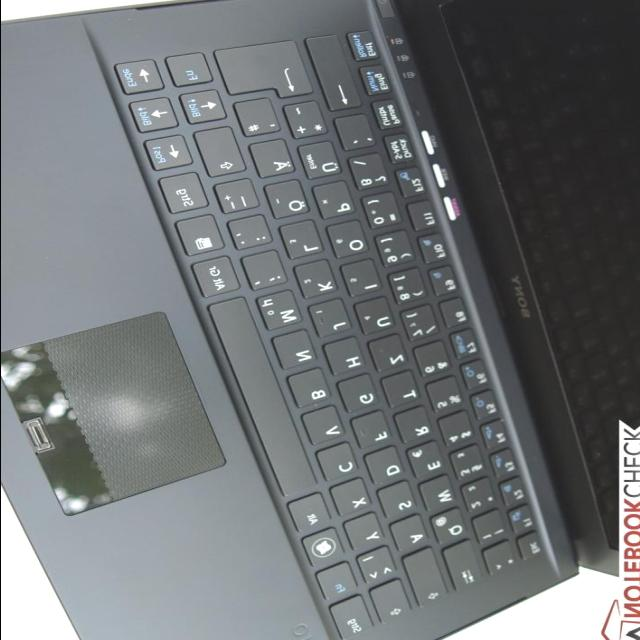0: (365, 194, 405, 232)
1: (475, 511, 511, 549)
2: (464, 479, 498, 516)
3: (453, 446, 487, 484)
4: (441, 413, 477, 449)
5: (429, 379, 466, 417)
6: (416, 343, 455, 381)
7: (403, 307, 443, 345)
8: (391, 270, 429, 308)
9: (378, 232, 418, 272)
a: (394, 518, 431, 556)
accent: (336, 116, 380, 152)
ae: (252, 141, 297, 181)
alt-left: (291, 495, 335, 537)
altgr-right: (195, 259, 245, 301)
b: (290, 369, 334, 411)
c: (320, 444, 360, 486)
caret: (485, 544, 517, 578)
comma: (243, 251, 291, 293)
d: (366, 448, 406, 488)
del: (309, 37, 365, 113)
e: (410, 443, 449, 483)
enter: (217, 42, 317, 100)
f: (354, 412, 393, 452)
g: (339, 376, 379, 416)
h: (325, 339, 367, 379)
hash: (235, 100, 284, 138)
i: (344, 260, 386, 300)
j: (310, 300, 354, 340)
k: (296, 262, 340, 302)
keyboard: (95, 0, 554, 640)
l: (281, 222, 326, 262)
less: (359, 548, 399, 588)
m: (259, 292, 306, 334)
minus: (216, 180, 263, 216)
n: (274, 332, 318, 372)
o: (329, 222, 371, 262)
oe: (266, 182, 311, 222)
p: (315, 182, 359, 222)
plus: (285, 103, 331, 141)
point: (231, 217, 276, 253)
q: (434, 510, 470, 548)
r: (397, 407, 435, 447)
s: (380, 483, 418, 523)
shift-left: (372, 581, 412, 628)
shift-lock: (404, 549, 449, 610)
shift-right: (196, 127, 250, 179)
space: (208, 298, 321, 502)
ss: (350, 155, 392, 193)
strg-left: (332, 597, 375, 640)
strg-right: (161, 174, 213, 216)
t: (383, 372, 422, 410)
tab: (445, 543, 485, 594)
u: (356, 298, 398, 338)
ue: (300, 142, 345, 182)
v: (304, 407, 348, 449)
w: (421, 477, 460, 515)
x: (333, 480, 373, 520)
y: (346, 514, 386, 554)
z: (371, 336, 410, 374)
